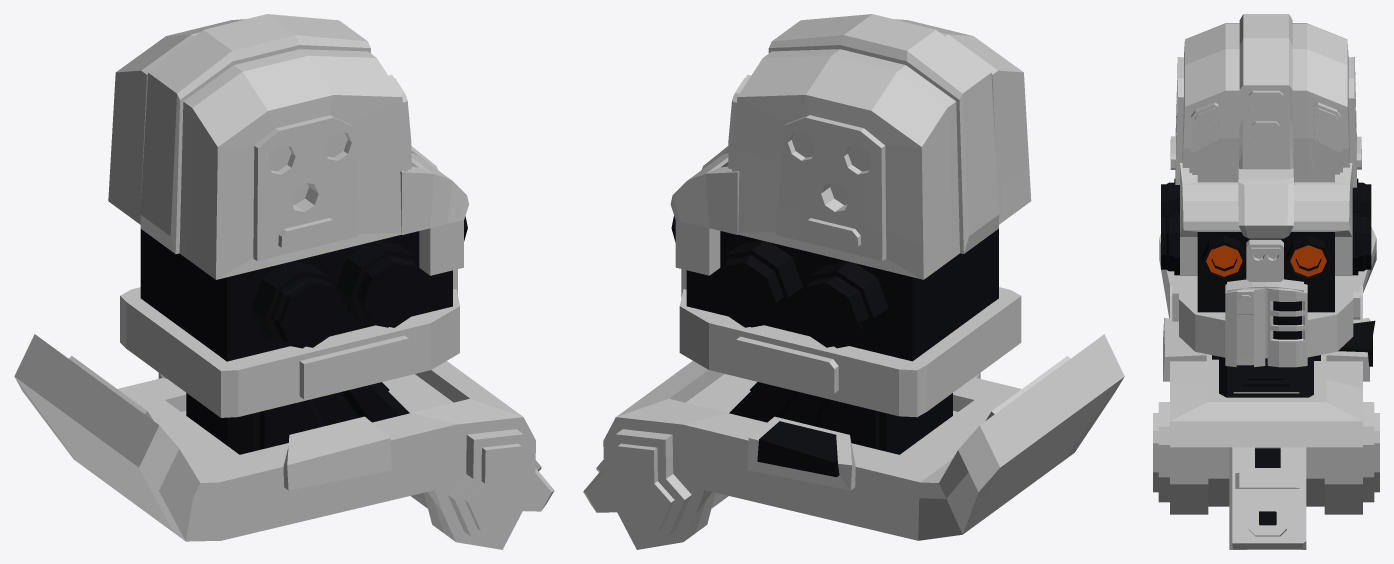
The model's file is Robo.fbx.
3 views of the same model, side by side, from view 1: azimuth 30°, elevation 25°; view 2: azimuth 150°, elevation 25°; view 3: azimuth 270°, elevation 25° (orthographic). The views are drawn at different scales.
Parts seen in each view (by area): view 1: Robo; view 2: Robo; view 3: Robo.
Part boxes in pixels (bbox=[...]): Robo: bbox=[14, 14, 554, 549]; Robo: bbox=[583, 14, 1124, 549]; Robo: bbox=[1153, 14, 1379, 549].
Size of the model in its own units: 1089 by 1199 by 587.
